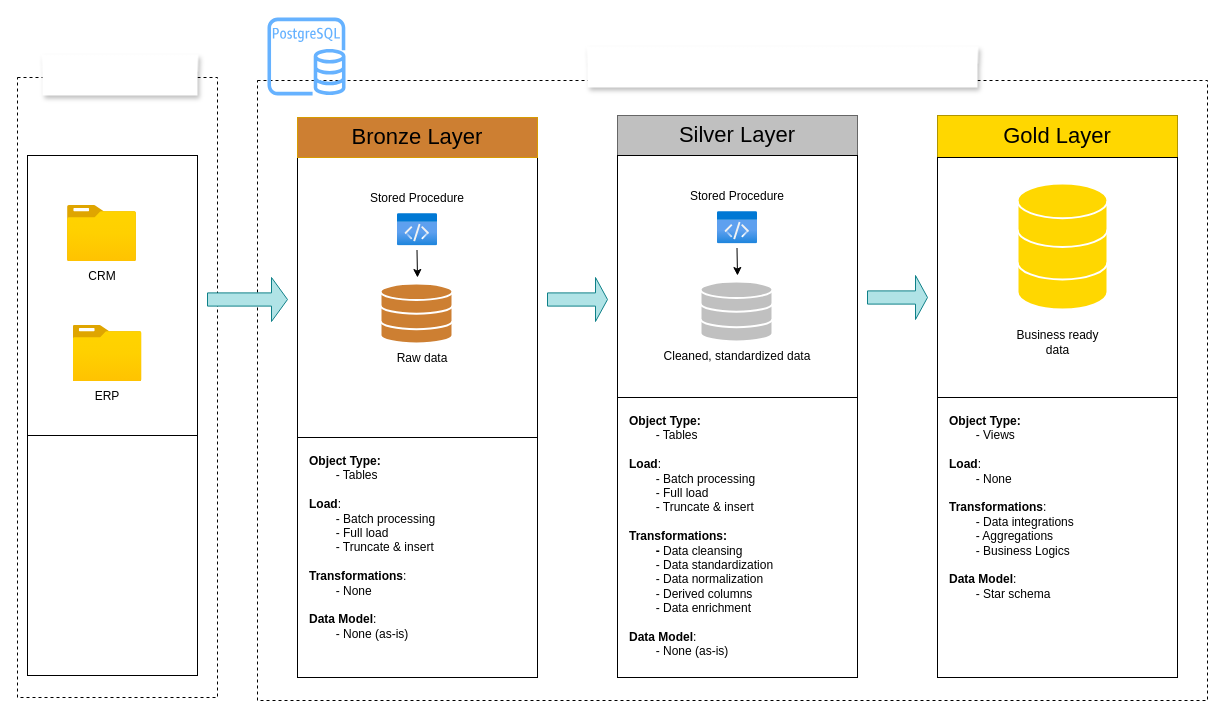
This 1225x718 diagram has some shape labels left out. The centre of each missing label's shape, as x and y in pixels:
"Data Source" goes at (x=120, y=76).
"Data Warehouse" goes at (x=783, y=68).
"Object Type : - CSV Files" goes at (x=112, y=555).
